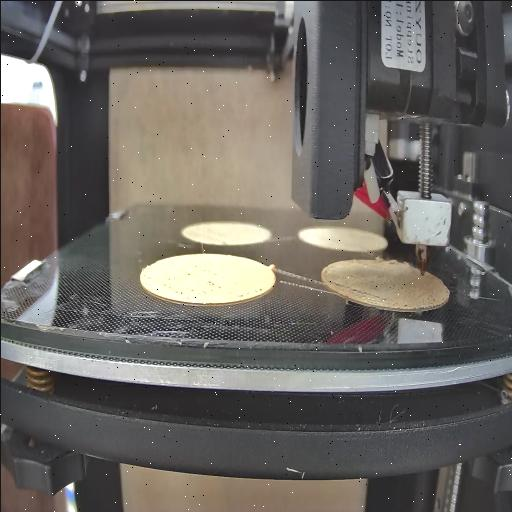under_extrusion: (143, 271, 263, 296), (400, 279, 450, 311), (326, 276, 386, 302)
